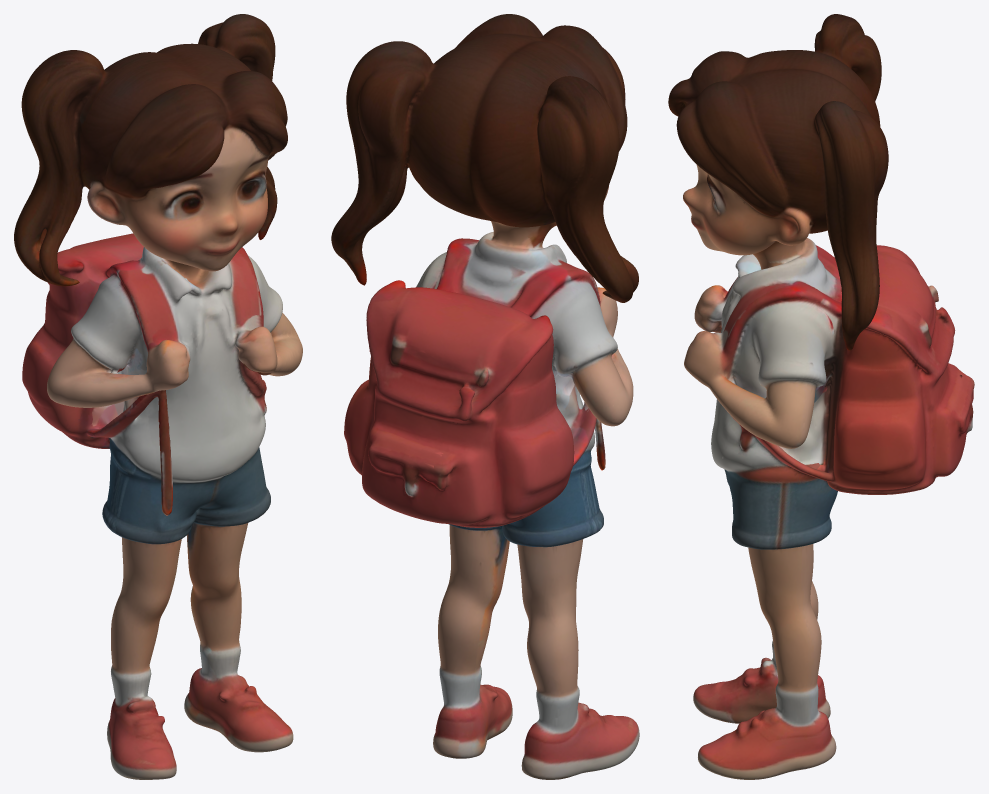
3 renders of one model, left to right at view 1: azimuth 30°, elevation 25°; view 2: azimuth 150°, elevation 25°; view 3: azimuth 270°, elevation 25°, orthographic. The views are drawn at different scales.
Visible parts, largest first — view 1: tripo_node_63753a8d-c845-42e9-a958-a0bcb25400c5; view 2: tripo_node_63753a8d-c845-42e9-a958-a0bcb25400c5; view 3: tripo_node_63753a8d-c845-42e9-a958-a0bcb25400c5.
Boxes of the visible parts, x1,y1,x2,y2 form: tripo_node_63753a8d-c845-42e9-a958-a0bcb25400c5: (14,14,302,779); tripo_node_63753a8d-c845-42e9-a958-a0bcb25400c5: (331,14,639,779); tripo_node_63753a8d-c845-42e9-a958-a0bcb25400c5: (668,14,974,779).
Size of the model in its own units: 0.3889 by 0.9483 by 0.3838.
Materials: 1 (1 with a texture image).
